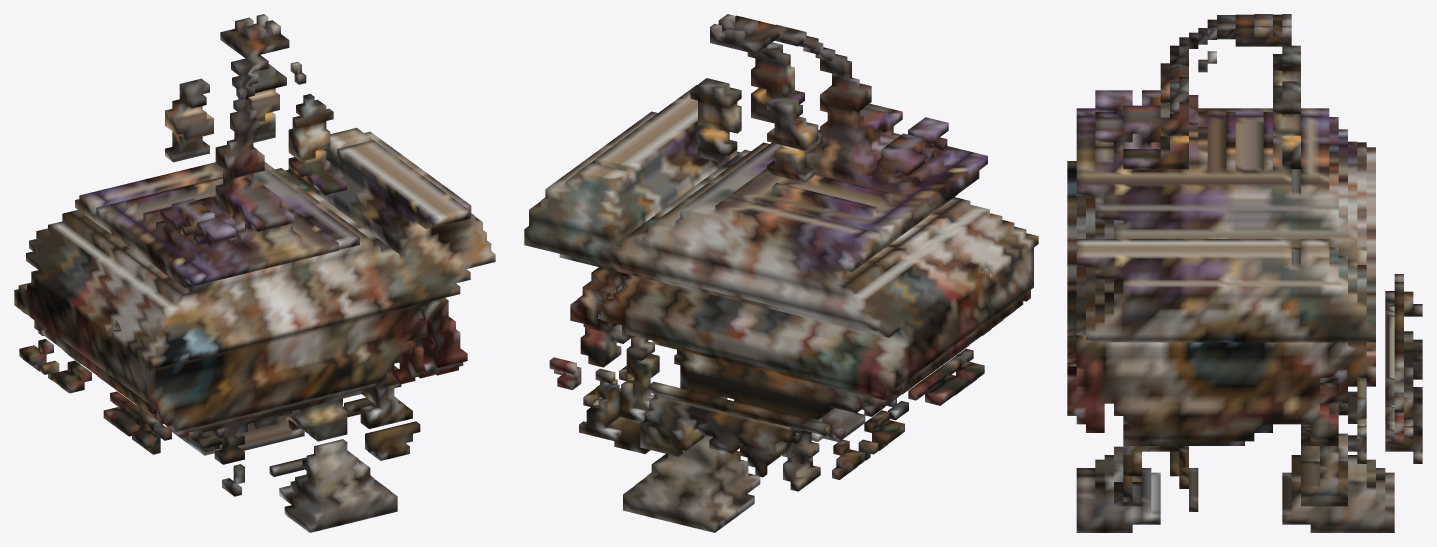
Rendered from sheet5_L4.glb.
The picture shows the model from 3 angles, left to right: view 1: azimuth 30°, elevation 25°; view 2: azimuth 150°, elevation 25°; view 3: azimuth 270°, elevation 25°; orthographic projection. The views are drawn at different scales.
Visible parts, largest first — view 1: BPT_sheet5_L4; view 2: BPT_sheet5_L4; view 3: BPT_sheet5_L4.
Boxes of the visible parts, x1,y1,x2,y2 form: BPT_sheet5_L4: (14, 14, 495, 532); BPT_sheet5_L4: (524, 14, 1038, 532); BPT_sheet5_L4: (1067, 14, 1422, 532).
Bounding box in the file's own units: 1.68 × 2 × 1.33.
